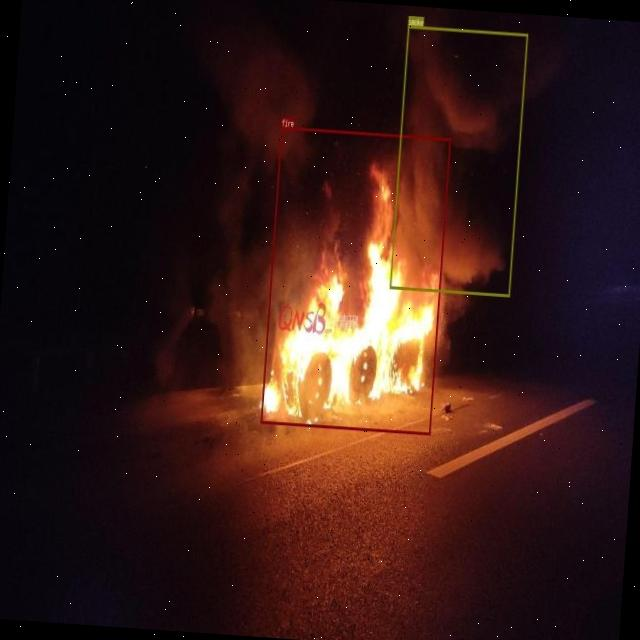fire: (261, 126, 451, 435)
smoke: (388, 24, 528, 296)
